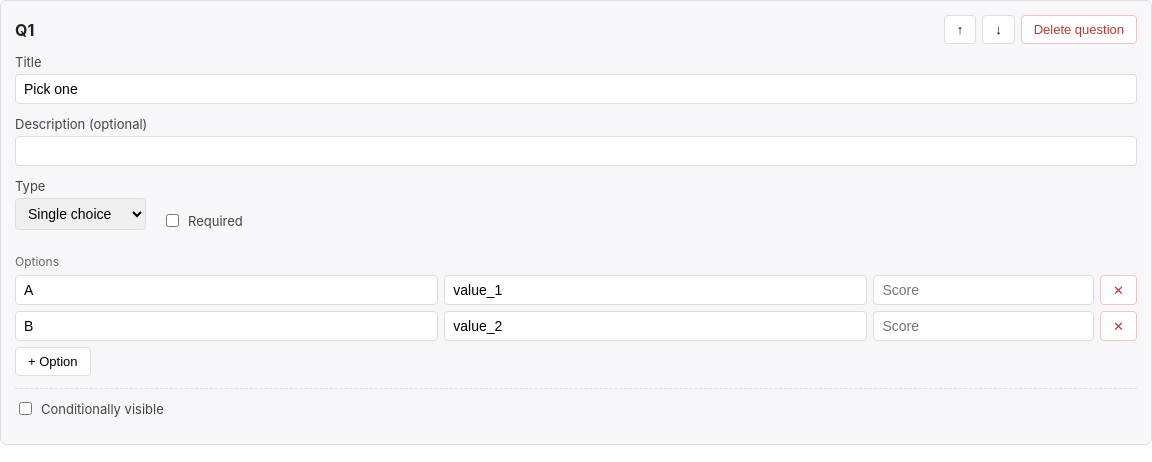
QuestionEditor — options CRUD › removing an option via ✕ leaves the others intact
expect the number of fields with placeholder "Label" is 2: met, box [15,275,438,305]; [15,311,438,341]
Click the 1st button "✕": point(1119, 290) [1100,275,1137,305]
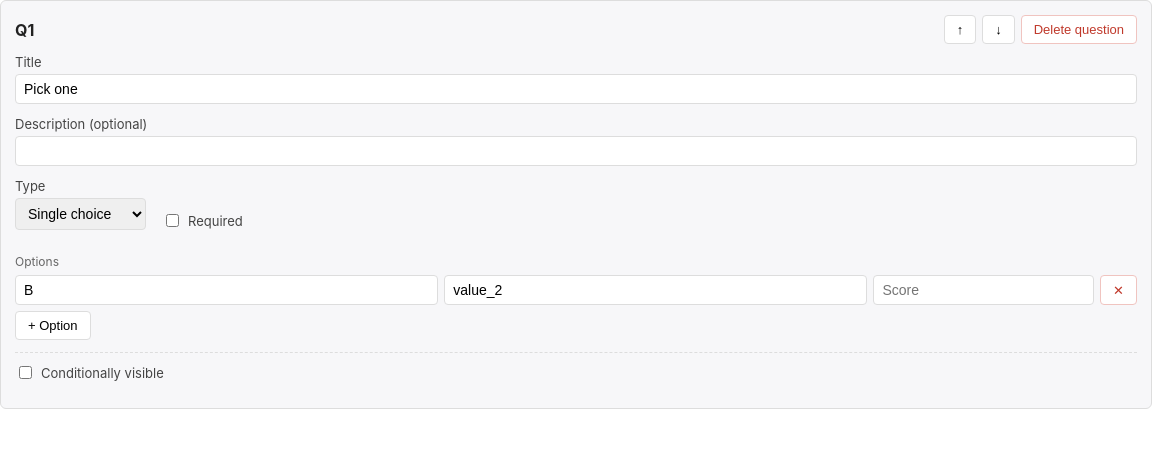
expect the number of fields with placeholder "Label" is 1: met, box [15,275,438,305]
